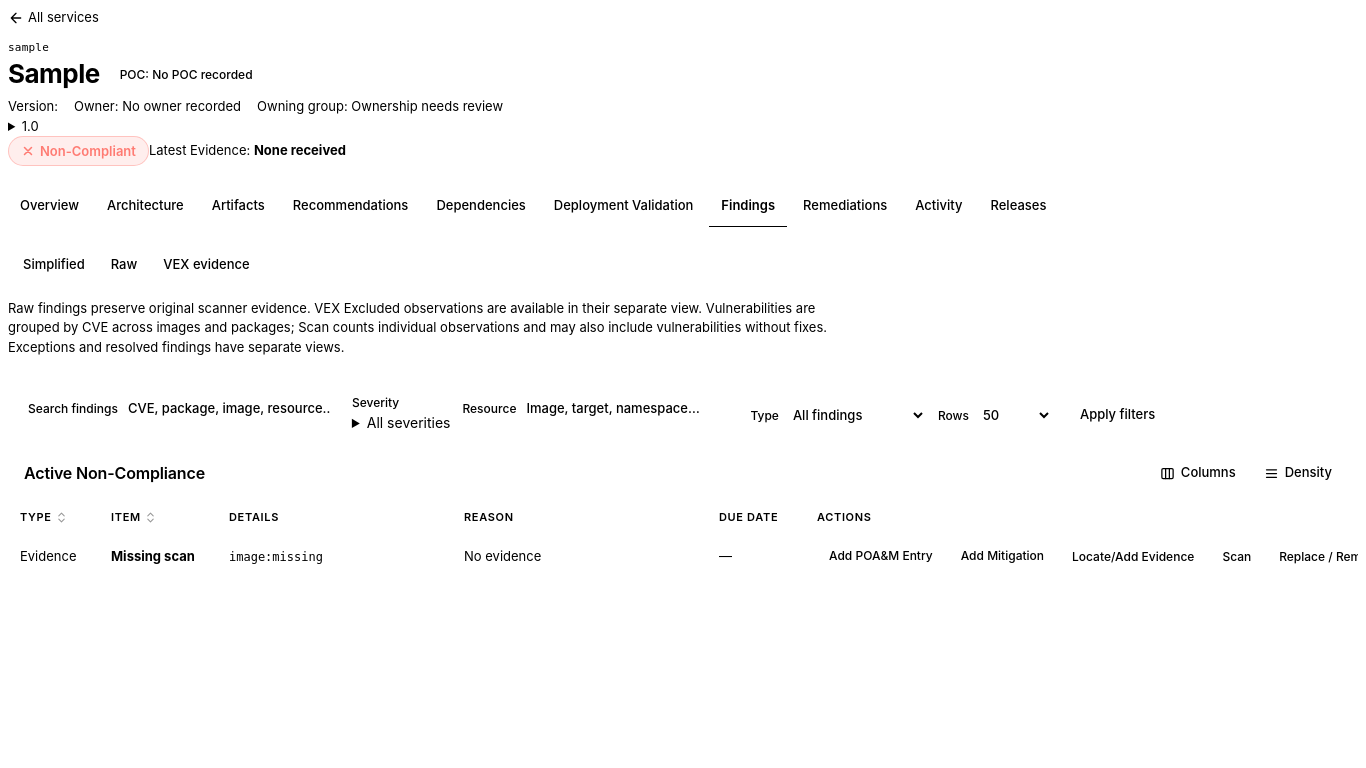
it: native service finding pages › retains missing evidence POAM scope and prefilled details
Click the button "Add POA&M Entry" at [881, 557], box [817, 543, 945, 571]
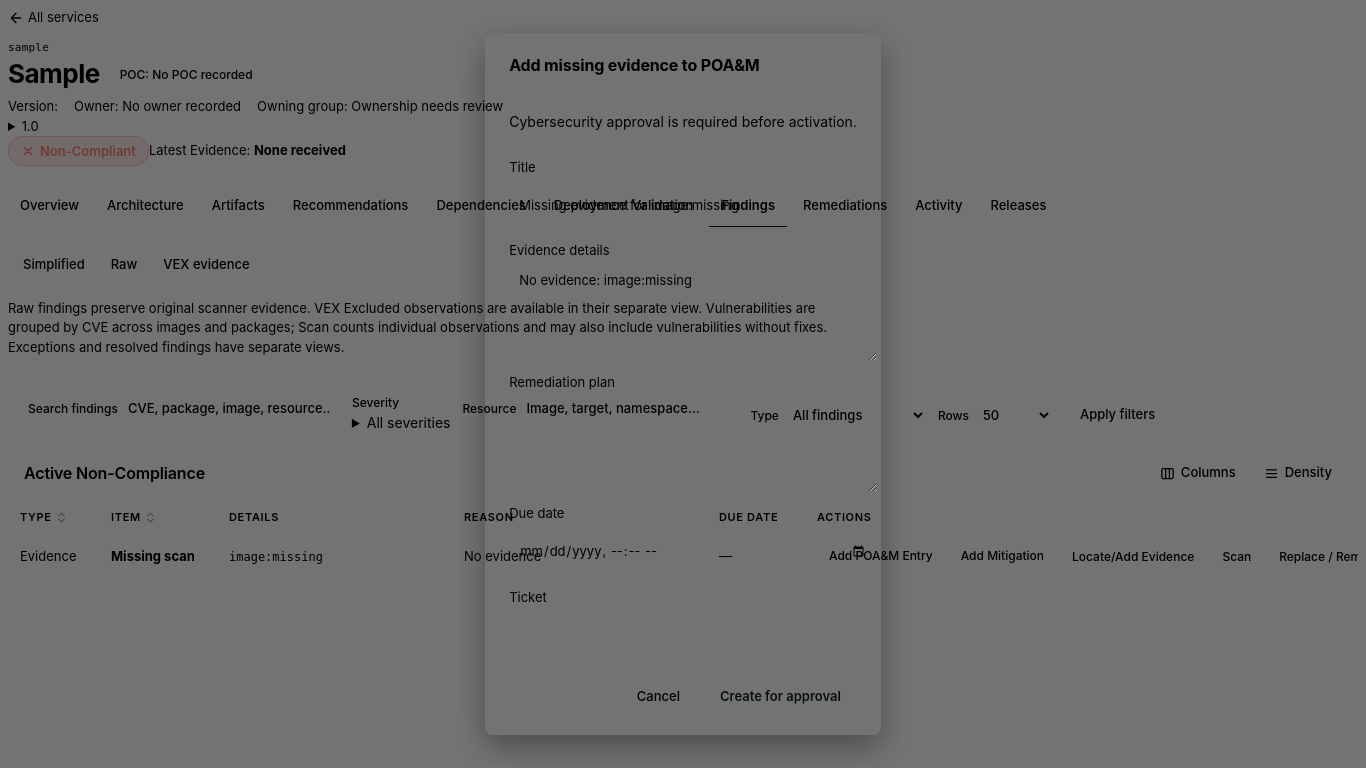
Result: the form named "service_id" holds "7" at [509, 53, 857, 715]
Result: the form named "item_type" holds "missing_evidence" at [509, 53, 857, 715]
Result: the text box labelled "Evidence details" holds "No evidence: image:missing" at [509, 265, 877, 361]
